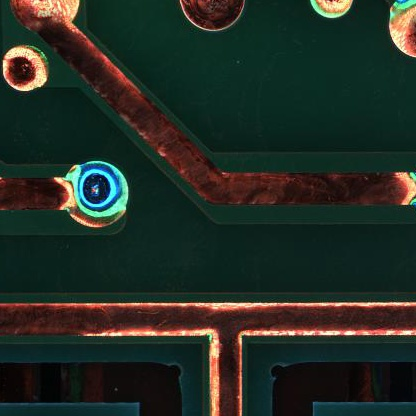spot: (66, 159, 125, 230)
